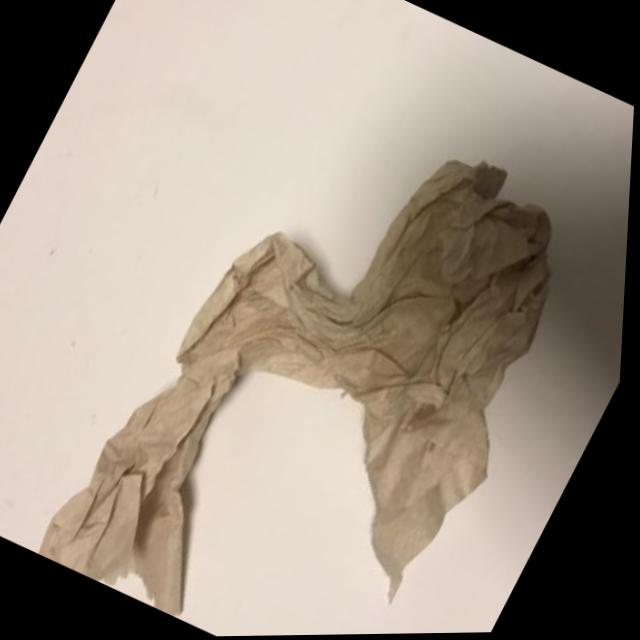trash: (15, 48, 638, 640)
